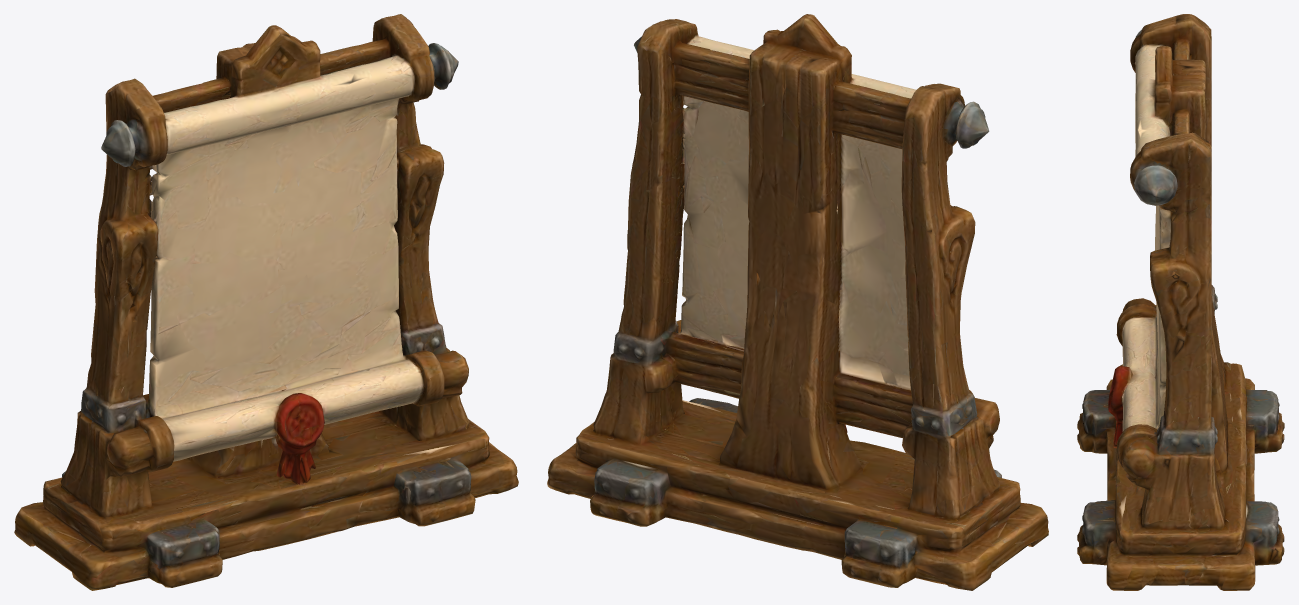
File: portfolio-scroll.glb
3 views of the same model, side by side, from view 1: azimuth 30°, elevation 25°; view 2: azimuth 150°, elevation 25°; view 3: azimuth 270°, elevation 25° (orthographic). The views are drawn at different scales.
Bounding box in the file's own units: 1.75 × 1.91 × 0.7998.
1 material, 1 textured.
